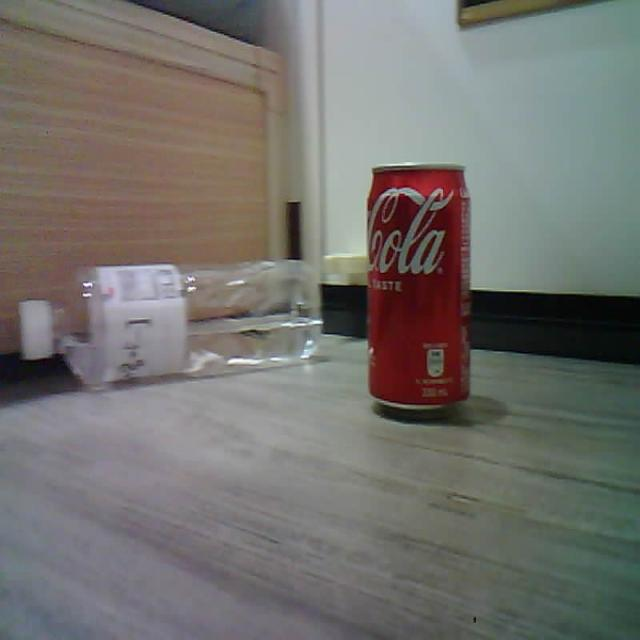bottle: (19, 260, 322, 387)
can: (366, 163, 470, 414)
